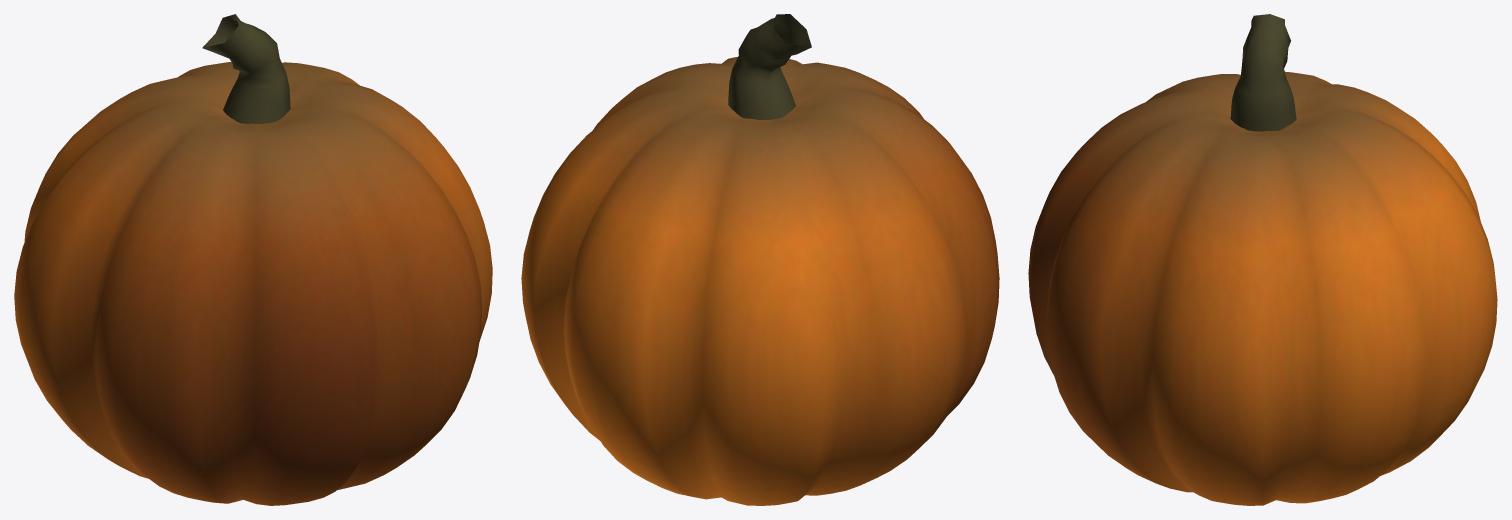
The model's file is pumpkin_b.glb.
The picture shows the model from 3 angles, left to right: view 1: azimuth 30°, elevation 25°; view 2: azimuth 150°, elevation 25°; view 3: azimuth 270°, elevation 25°; orthographic projection. The views are drawn at different scales.
Parts seen in each view (by area): view 1: pumpkin_b, pumpkin_b_stem; view 2: pumpkin_b, pumpkin_b_stem; view 3: pumpkin_b, pumpkin_b_stem.
Boxes of the visible parts, x1,y1,x2,y2 form: pumpkin_b: [14, 62, 492, 505]; pumpkin_b_stem: [202, 14, 290, 123]; pumpkin_b: [521, 57, 999, 505]; pumpkin_b_stem: [728, 14, 811, 119]; pumpkin_b: [1028, 71, 1497, 505]; pumpkin_b_stem: [1230, 14, 1296, 131].
Size of the model in its own units: 0.833 by 0.8766 by 0.8335.
Materials: 2 (1 with a texture image).
